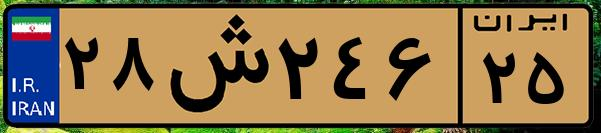2: (270, 28, 330, 110), (57, 26, 110, 100), (475, 38, 525, 113)
4: (330, 28, 385, 110)
5: (525, 38, 570, 115)
6: (385, 28, 445, 110)
8: (110, 28, 158, 98)
ش: (158, 12, 270, 120)
